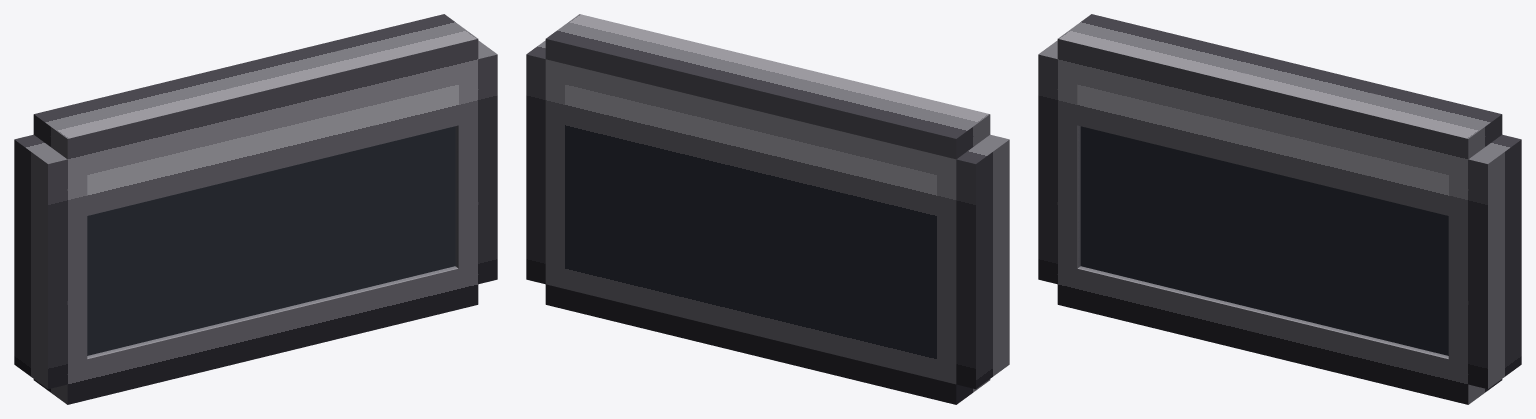
The model's file is digital_clock_off.glb.
3 views of the same model, side by side, from view 1: azimuth 30°, elevation 25°; view 2: azimuth 150°, elevation 25°; view 3: azimuth 330°, elevation 25° (orthographic).
Visible parts, largest first — view 1: Continuous_Stepped_Housing, Closed_Tinted_Glass, Recessed_Display; view 2: Continuous_Stepped_Housing; view 3: Continuous_Stepped_Housing, Closed_Tinted_Glass, Recessed_Display.
Boxes of the visible parts, x1,y1,x2,y2 form: Continuous_Stepped_Housing: (14,14,497,404); Closed_Tinted_Glass: (88,126,457,356); Recessed_Display: (87,126,455,355); Continuous_Stepped_Housing: (526,14,1009,404); Continuous_Stepped_Housing: (1038,14,1521,404); Closed_Tinted_Glass: (1078,126,1447,357); Recessed_Display: (1080,126,1448,355).
Size of the model in its own units: 0.6469 by 0.3656 by 0.0844.
Materials: 2 (2 with a texture image).
